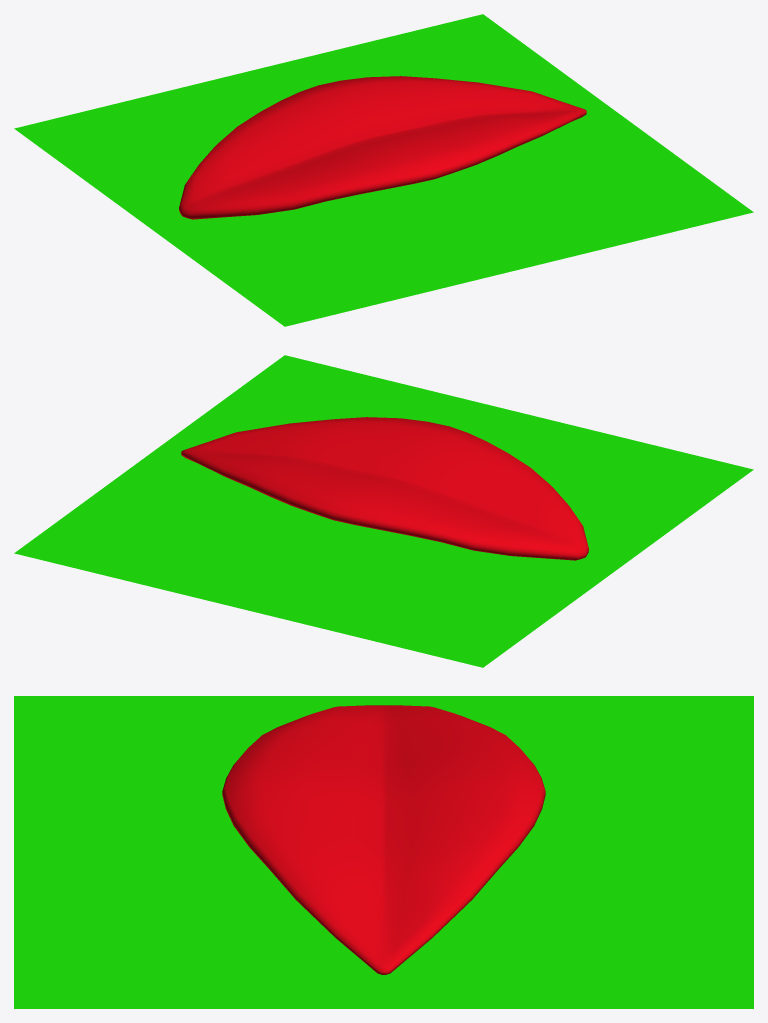
Rendered from Feuille_high.fbx.
The picture shows the model from 3 angles, top to bottom: view 1: azimuth 30°, elevation 25°; view 2: azimuth 150°, elevation 25°; view 3: azimuth 270°, elevation 25°; orthographic projection. The views are drawn at different scales.
Visible parts, largest first — view 1: Feuille_high; view 2: Feuille_high; view 3: Feuille_high.
Boxes of the visible parts, x1,y1,x2,y2 form: Feuille_high: (14, 14, 753, 326); Feuille_high: (14, 355, 753, 667); Feuille_high: (14, 696, 753, 1008).
Size of the model in its own units: 50 by 4.92 by 50.
